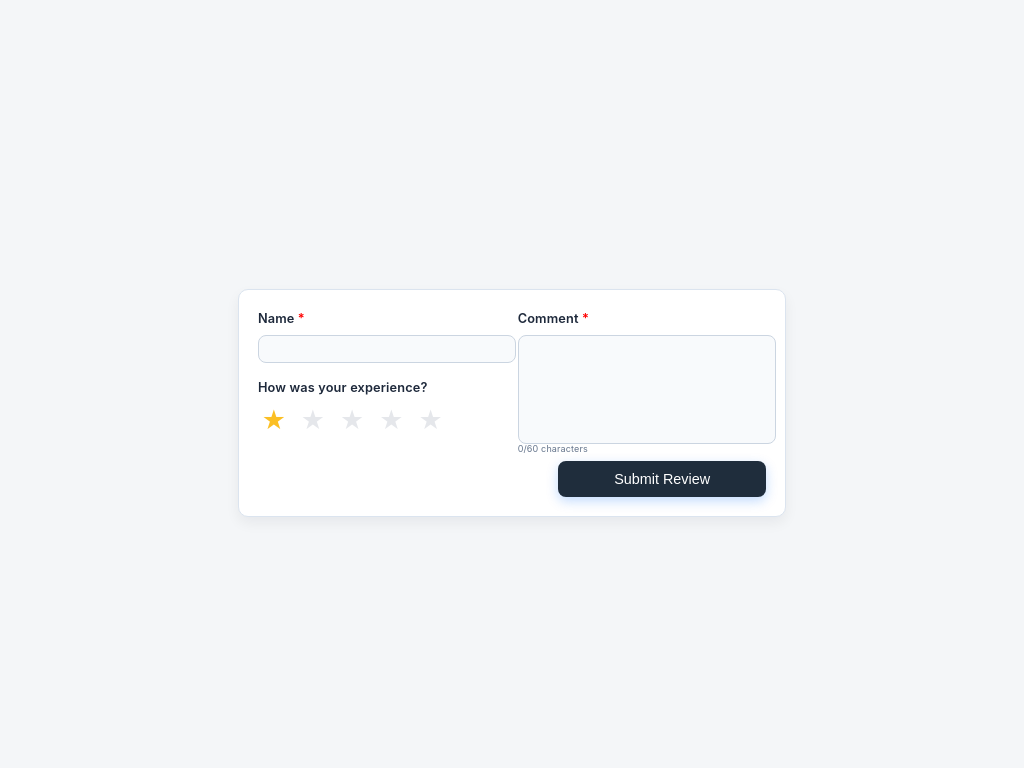
Test: ReviewForm › resets form after successful submit
The width and height of the screenshot is (1024, 768).
Type "John" into the field labelled "Name" at (387, 349), box [258,335,516,363]
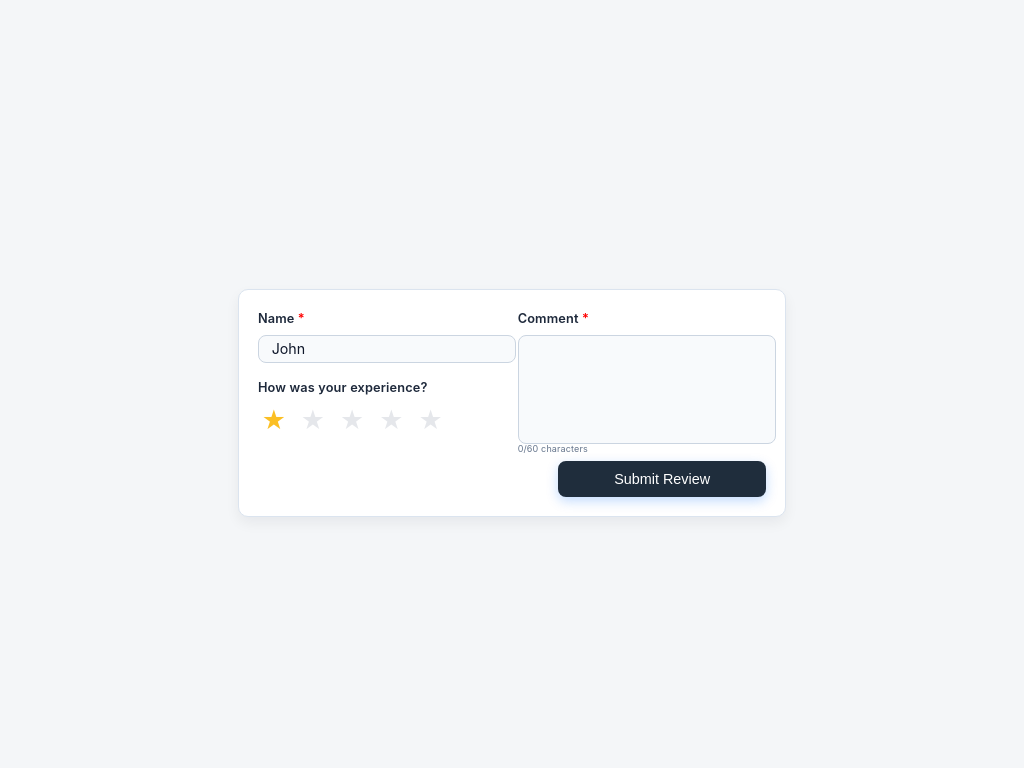
Type "Great product!" into the text box labelled "Comment" at (647, 389), box [518,335,776,444]
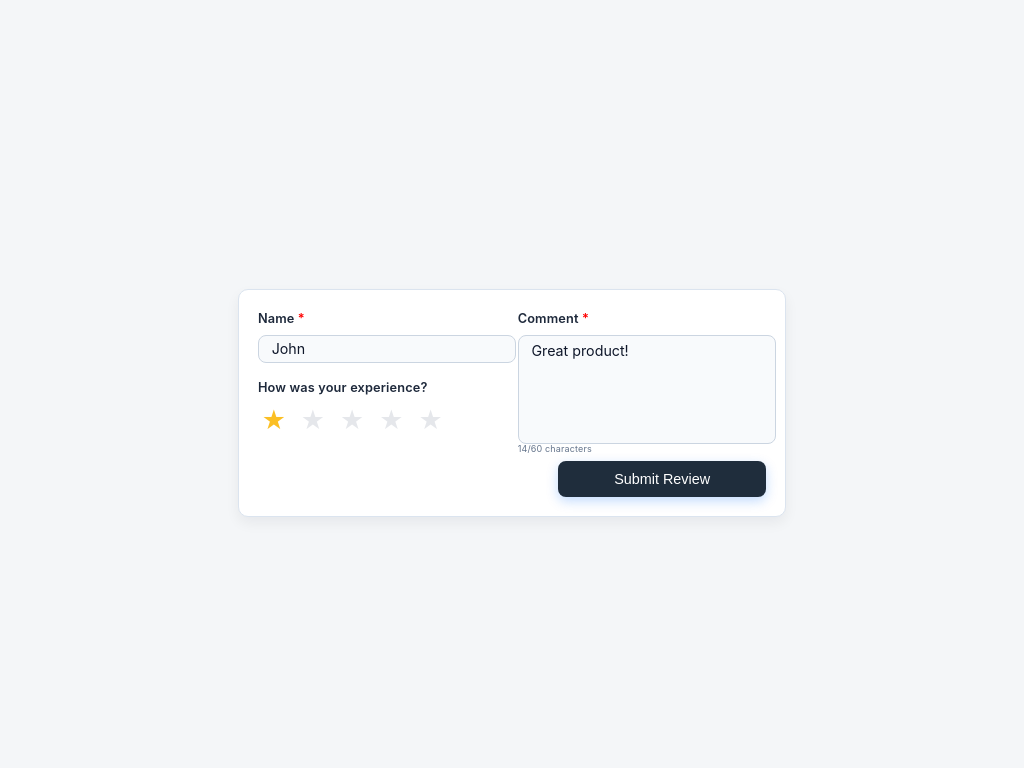
Click the button "Submit Review" at (662, 479), box [558,461,766,497]
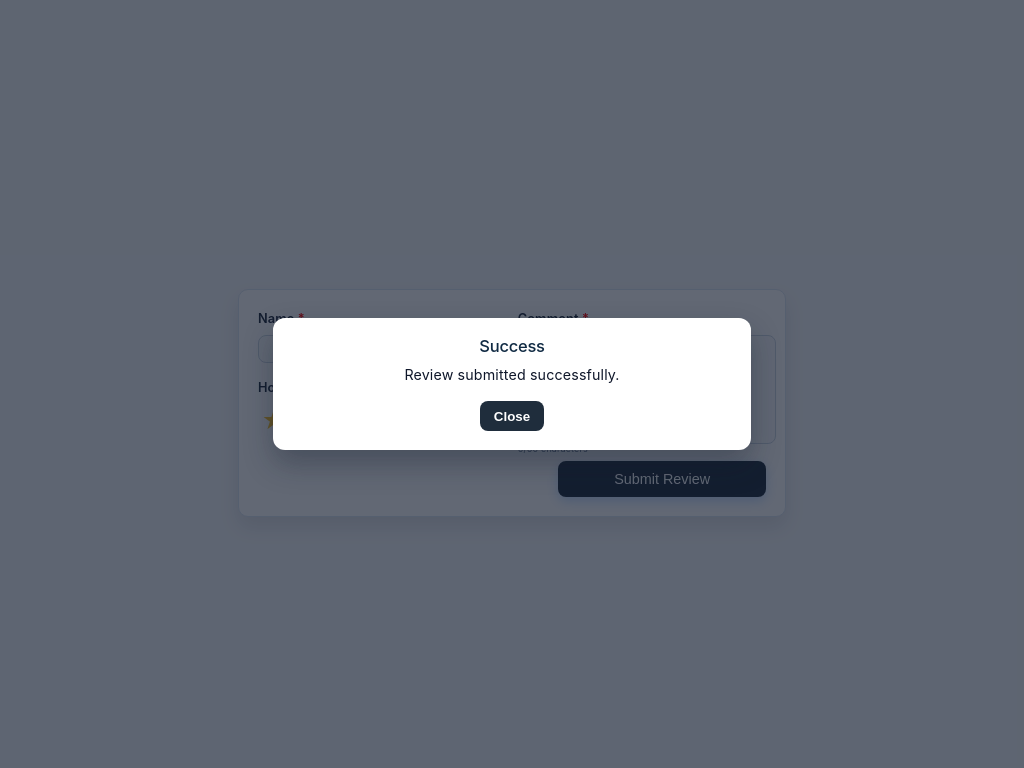
Check: the dialog is shown
Check: the text "Review submitted successfully." is shown, box [404,366,620,383]
Click the button "Close" at (512, 416), box [480,401,544,431]
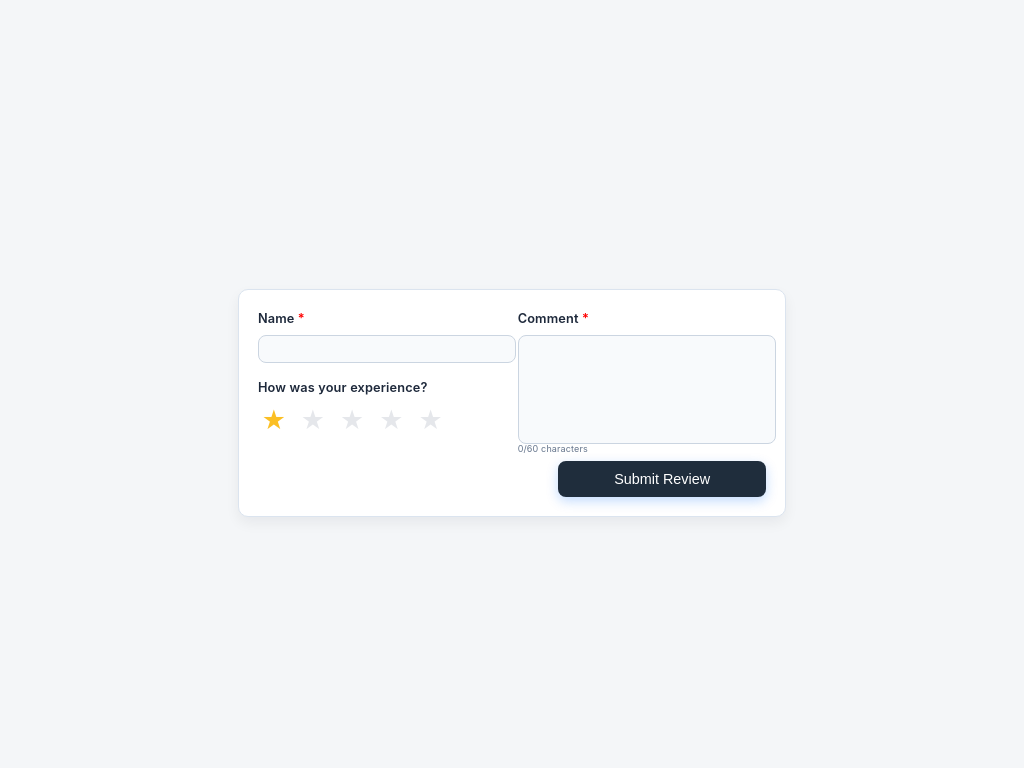
Check: the field labelled "Name" is empty, box [258,335,516,363]
Check: the text box labelled "Comment" is empty, box [518,335,776,444]
Check: the dialog is gone
